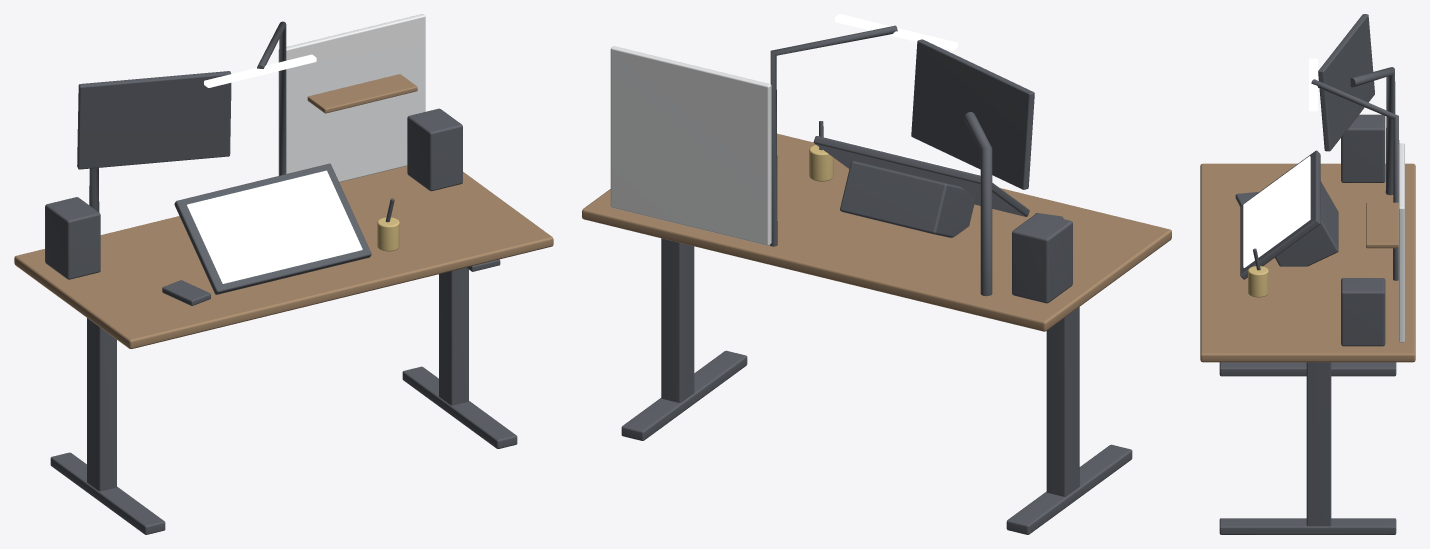
File: creator_dual_monitor_desk_v10.glb
3 views of the same model, side by side, from view 1: azimuth 30°, elevation 25°; view 2: azimuth 150°, elevation 25°; view 3: azimuth 270°, elevation 25° (orthographic). The views are drawn at different scales.
Visible parts, largest first — view 1: V10_WalnutDesktopSlab, V10_BackPegboardPanel, V10_SubRefMonitorBody, V10_PenDisplayScreen, V10_DeskLiftColumn, V10_PenDisplayChassis, V10_StudioMonitorSpeaker, V10_StudioMonitorSpeaker.001, V10_DeskLiftColumn.001, V10_DeskFootRunner.001, V10_DeskFootRunner, V10_PegboardMiniShelf (+4 smaller); view 2: V10_WalnutDesktopSlab, V10_BackPegboardPanel, V10_SubRefMonitorBody, V10_PenTabletTiltStand, V10_DeskLiftColumn, V10_DeskLiftColumn.001, V10_StudioMonitorSpeaker, V10_PenDisplayChassis, V10_DeskFootRunner, V10_DeskFootRunner.001, V10_MonitorArmPost, V10_TaskLampArch (+2 smaller); view 3: V10_WalnutDesktopSlab, V10_PenDisplayScreen, V10_SubRefMonitorBody, V10_DeskLiftColumn.001, V10_StudioMonitorSpeaker.001, V10_StudioMonitorSpeaker, V10_DeskFootRunner.001, V10_DeskFootRunner, V10_PenTabletTiltStand, V10_PenDisplayChassis, V10_PegboardMiniShelf, V10_MonitorArmPost (+4 smaller).
Part boxes in pixels (box(x1,y1,x2,y2)): V10_WalnutDesktopSlab: box(14, 166, 553, 348); V10_BackPegboardPanel: box(278, 14, 425, 182); V10_SubRefMonitorBody: box(77, 71, 231, 169); V10_PenDisplayScreen: box(187, 170, 362, 283); V10_DeskLiftColumn: box(87, 318, 116, 491); V10_PenDisplayChassis: box(174, 163, 371, 294); V10_StudioMonitorSpeaker: box(45, 197, 100, 279); V10_StudioMonitorSpeaker.001: box(407, 108, 462, 191); V10_DeskLiftColumn.001: box(439, 267, 468, 405); V10_DeskFootRunner.001: box(402, 366, 517, 448); V10_DeskFootRunner: box(50, 452, 165, 534); V10_PegboardMiniShelf: box(307, 74, 417, 113); V10_WalnutDesktopSlab: box(582, 133, 1171, 331); V10_BackPegboardPanel: box(610, 46, 771, 245); V10_SubRefMonitorBody: box(911, 39, 1034, 189); V10_PenTabletTiltStand: box(840, 161, 975, 237); V10_DeskLiftColumn: box(1046, 307, 1079, 496); V10_DeskLiftColumn.001: box(661, 238, 694, 402); V10_StudioMonitorSpeaker: box(1012, 213, 1072, 303); V10_PenDisplayChassis: box(813, 136, 1029, 216); V10_DeskFootRunner: box(1006, 444, 1132, 534); V10_DeskFootRunner.001: box(621, 350, 747, 440); V10_MonitorArmPost: box(964, 112, 992, 296); V10_TaskLampArch: box(770, 25, 897, 246); V10_WalnutDesktopSlab: box(1200, 163, 1415, 362); V10_PenDisplayScreen: box(1243, 156, 1310, 267); V10_SubRefMonitorBody: box(1318, 14, 1374, 151); V10_DeskLiftColumn.001: box(1306, 362, 1331, 526); V10_StudioMonitorSpeaker.001: box(1341, 278, 1385, 346); V10_StudioMonitorSpeaker: box(1341, 114, 1385, 182); V10_DeskFootRunner.001: box(1219, 518, 1396, 534); V10_DeskFootRunner: box(1219, 362, 1396, 376); V10_PenTabletTiltStand: box(1275, 181, 1338, 266); V10_PenDisplayChassis: box(1240, 150, 1320, 279); V10_PegboardMiniShelf: box(1366, 202, 1398, 248); V10_MonitorArmPost: box(1350, 67, 1395, 195).
Size of the model in its own units: 1.64 by 1.45 by 0.78.
